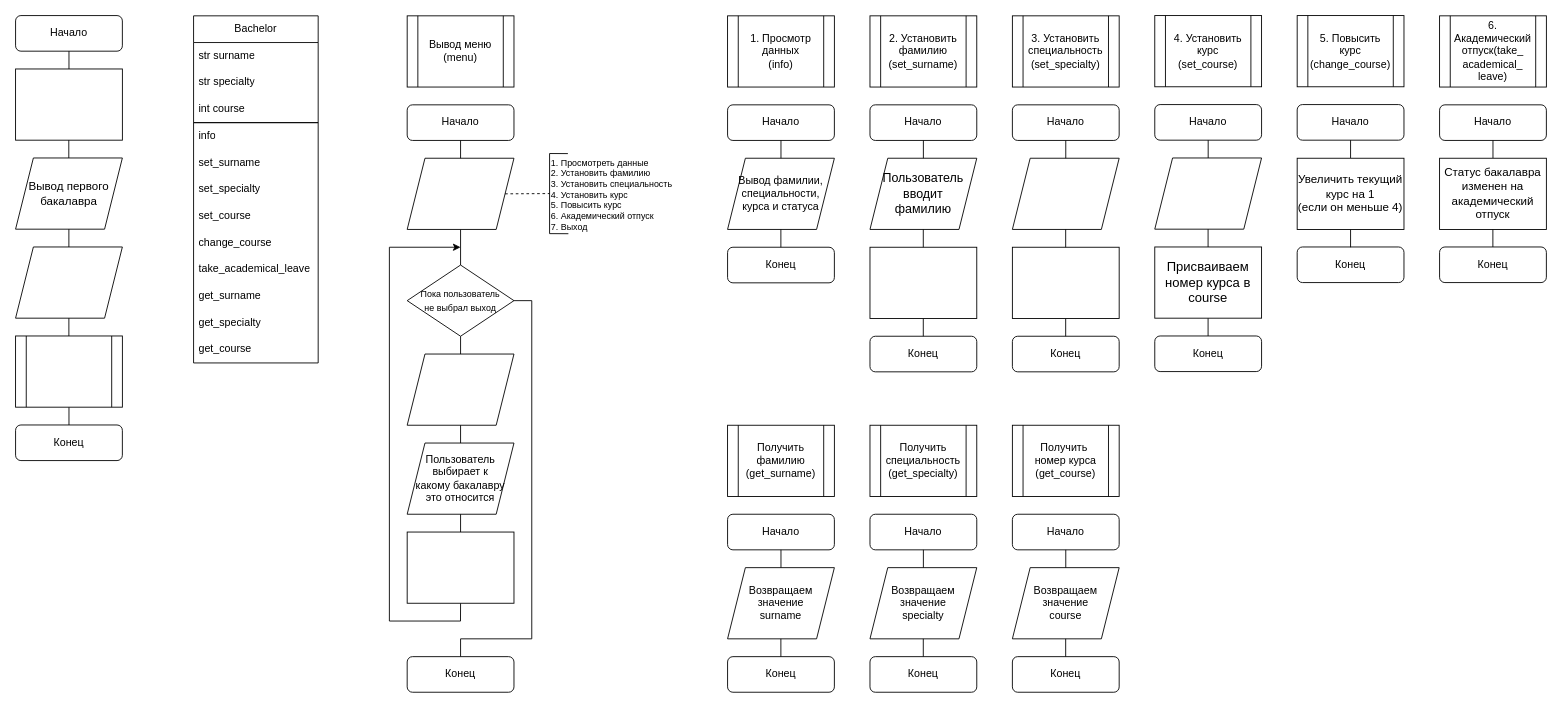
This 1562x708 diagram has some shape labels left out. Each missing label, with the centre of its shape:
"Выбранное действие выполняется" belongs at pixel 460 567.
"Вывод вариантов действий (меню)" belongs at pixel 460 193.
"Вывод второго бакалавра" belongs at pixel 68 282.
"Запуск menu" belongs at pixel 68 371.
"Пользователь вводит номер курса" belongs at pixel 1208 193.
"Пользователь вводит специальность" belongs at pixel 1065 193.
"Пользователь выбирает действие" belongs at pixel 460 389.
"Присваиваем специальность в specialty" belongs at pixel 1065 282.
"Присваиваем фамилию в surname" belongs at pixel 923 282.
"Создание объектов класса Bachelor" belongs at pixel 68 104.
